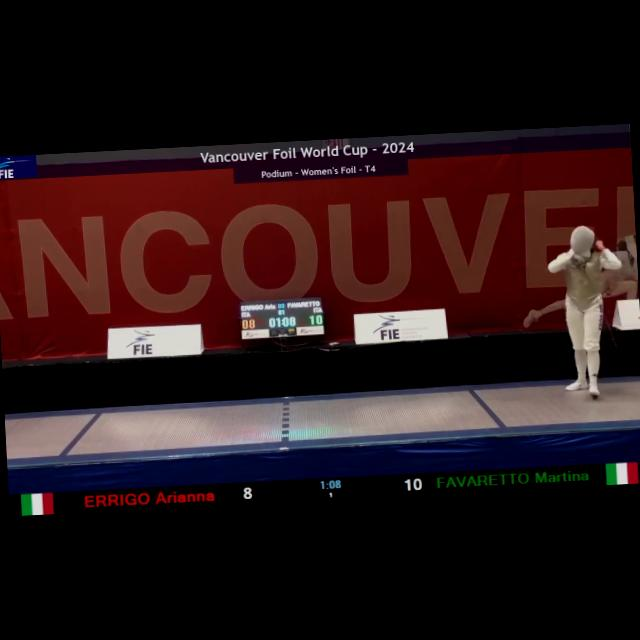blade: (571, 252, 618, 350)
